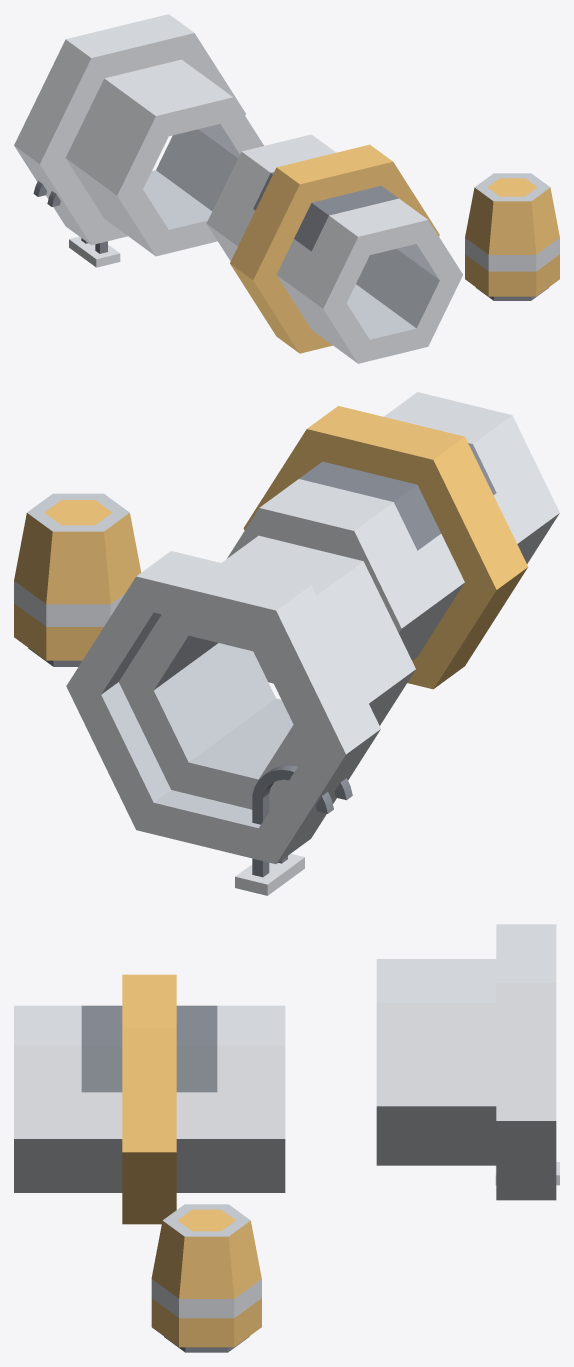
Rendered from ice_extractor_lvl2.glb.
3 views of the same model, one above another, from view 1: azimuth 30°, elevation 25°; view 2: azimuth 150°, elevation 25°; view 3: azimuth 270°, elevation 25° (orthographic). The views are drawn at different scales.
Visible parts, largest first — view 1: pipe_ring.001, pipe_entrance.001, machine_barrel.001, cables.001; view 2: pipe_entrance.001, pipe_ring.001, machine_barrel.001, cables.001; view 3: pipe_ring.001, pipe_entrance.001, machine_barrel.001.
Boxes of the visible parts, <box> form: pipe_ring.001: <box>206,134,462,363</box>; pipe_entrance.001: <box>14,14,263,256</box>; machine_barrel.001: <box>465,173,559,300</box>; cables.001: <box>33,181,120,267</box>; pipe_entrance.001: <box>66,535,415,863</box>; pipe_ring.001: <box>227,392,559,689</box>; machine_barrel.001: <box>14,493,141,666</box>; cables.001: <box>235,765,352,895</box>; pipe_ring.001: <box>14,974,285,1224</box>; pipe_entrance.001: <box>376,924,556,1200</box>; machine_barrel.001: <box>151,1204,261,1352</box>.
Bounding box in the file's own units: 1.8 × 0.945 × 1.91.
